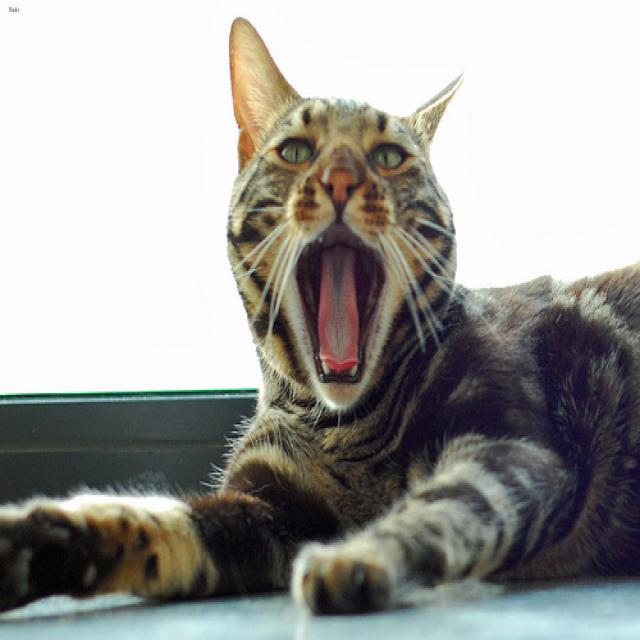Bengal: (225, 14, 461, 412)
